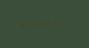eight: (17, 20, 23, 28), (24, 20, 30, 28), (31, 20, 37, 28), (38, 20, 44, 28)
nine: (45, 19, 51, 27)
seven: (59, 19, 65, 27), (66, 19, 72, 27)
three: (52, 19, 58, 27)
